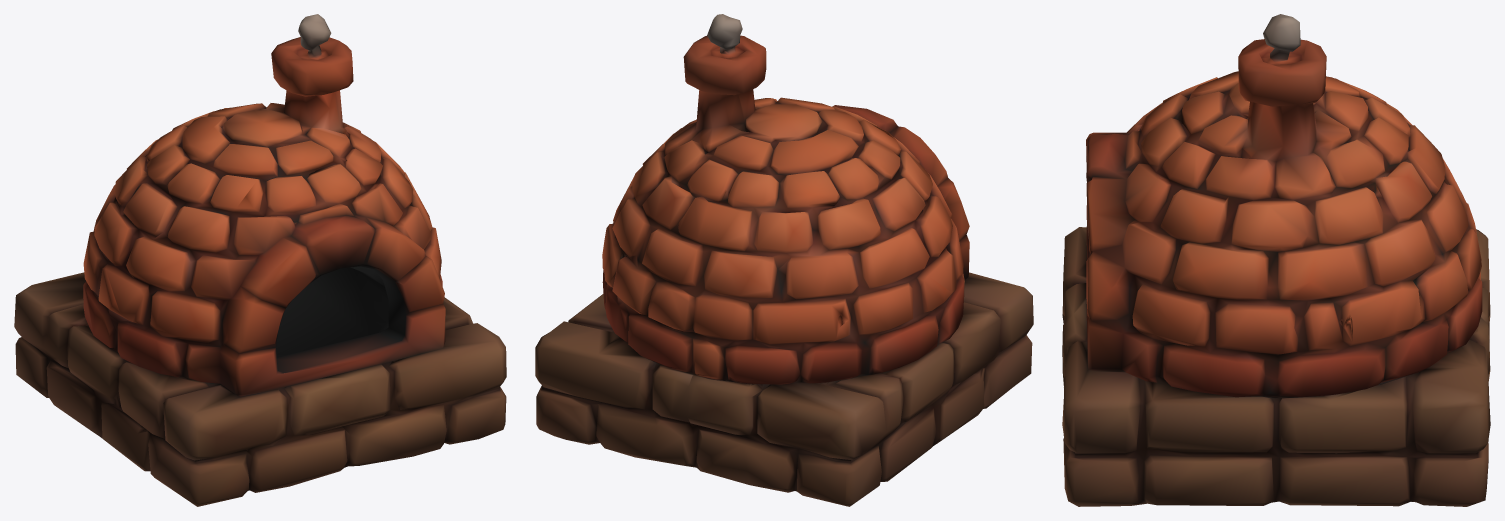
Rendered from meshy-oven.glb.
3 renders of one model, left to right at view 1: azimuth 30°, elevation 25°; view 2: azimuth 150°, elevation 25°; view 3: azimuth 270°, elevation 25°, orthographic. The views are drawn at different scales.
Visible parts, largest first — view 1: Mesh_0; view 2: Mesh_0; view 3: Mesh_0.
Boxes of the visible parts, x1=… form: Mesh_0: x1=14, y1=14, x2=506, y2=506; Mesh_0: x1=535, y1=14, x2=1033, y2=506; Mesh_0: x1=1062, y1=14, x2=1490, y2=506.
Bounding box in the file's own units: 1.64 × 1.85 × 1.64.
